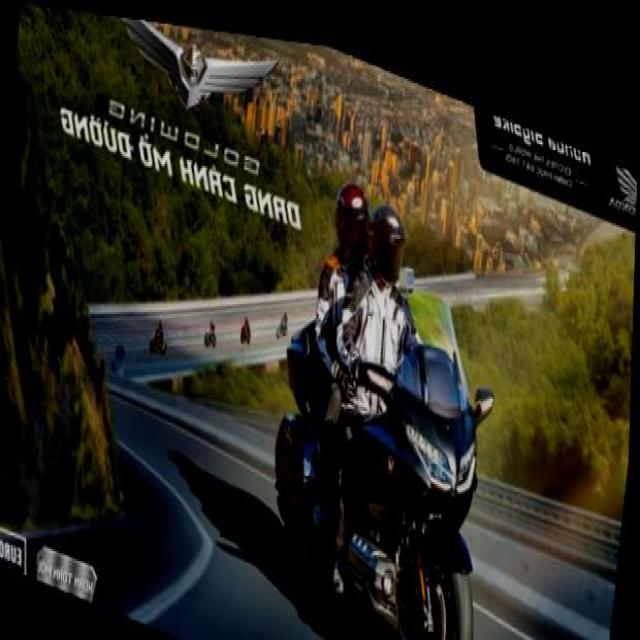Gold Wing: (256, 219, 512, 638)
